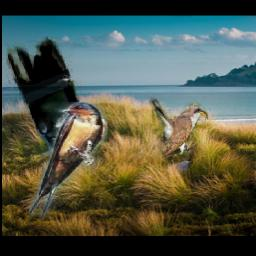Cuckoo: (142, 86, 207, 156)
Swallow: (6, 33, 84, 153), (28, 102, 107, 217)
